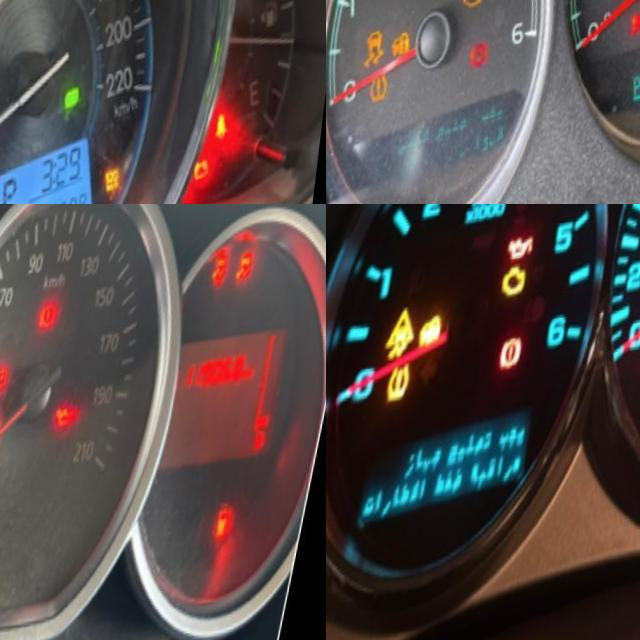Engine cooling system: (0, 416, 12, 459)
Low fuel level: (221, 523, 249, 563)
security: (421, 311, 454, 361), (395, 35, 422, 67)
